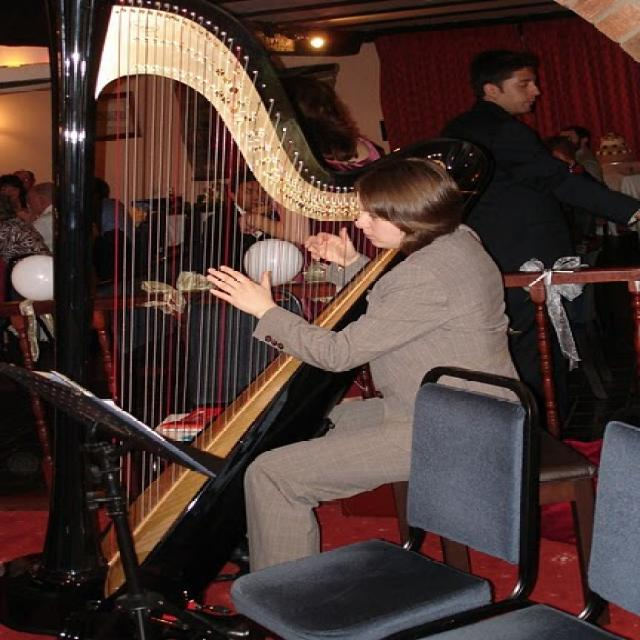harp: (6, 0, 499, 637)
